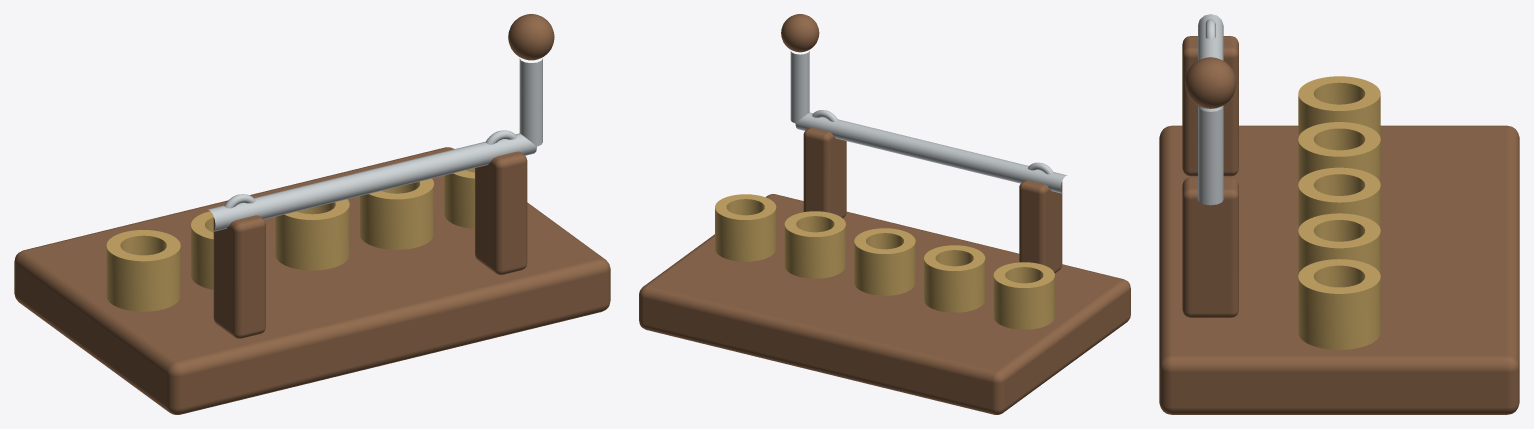
File: clockmaker-and-watch-repair-mainspring-winder-01622fd1__30619.glb
The picture shows the model from 3 angles, left to right: view 1: azimuth 30°, elevation 25°; view 2: azimuth 150°, elevation 25°; view 3: azimuth 270°, elevation 25°; orthographic projection. The views are drawn at different scales.
Visible parts, largest first — view 1: mainspring-winder; view 2: mainspring-winder; view 3: mainspring-winder.
Part boxes in pixels (box(x1,y1,x2,y2)): mainspring-winder: box(14, 14, 610, 414); mainspring-winder: box(639, 14, 1130, 414); mainspring-winder: box(1159, 14, 1519, 414).
Bounding box in the file's own units: 0.22 × 0.14 × 0.14.
